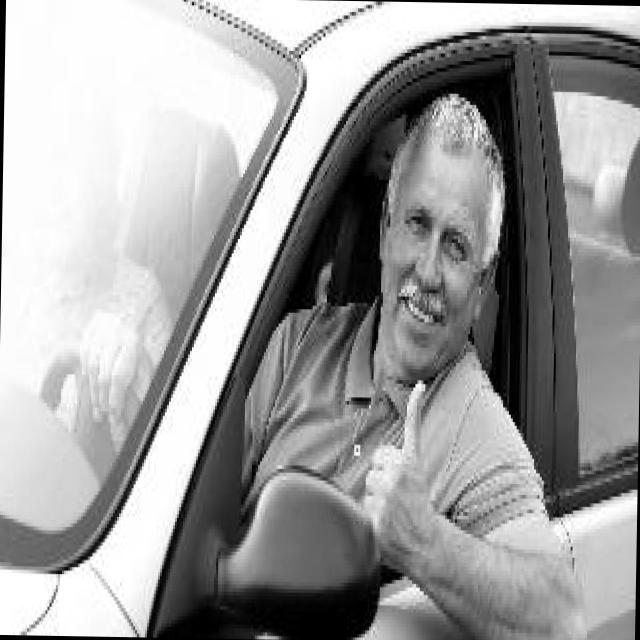Focused: (384, 186, 480, 364)
